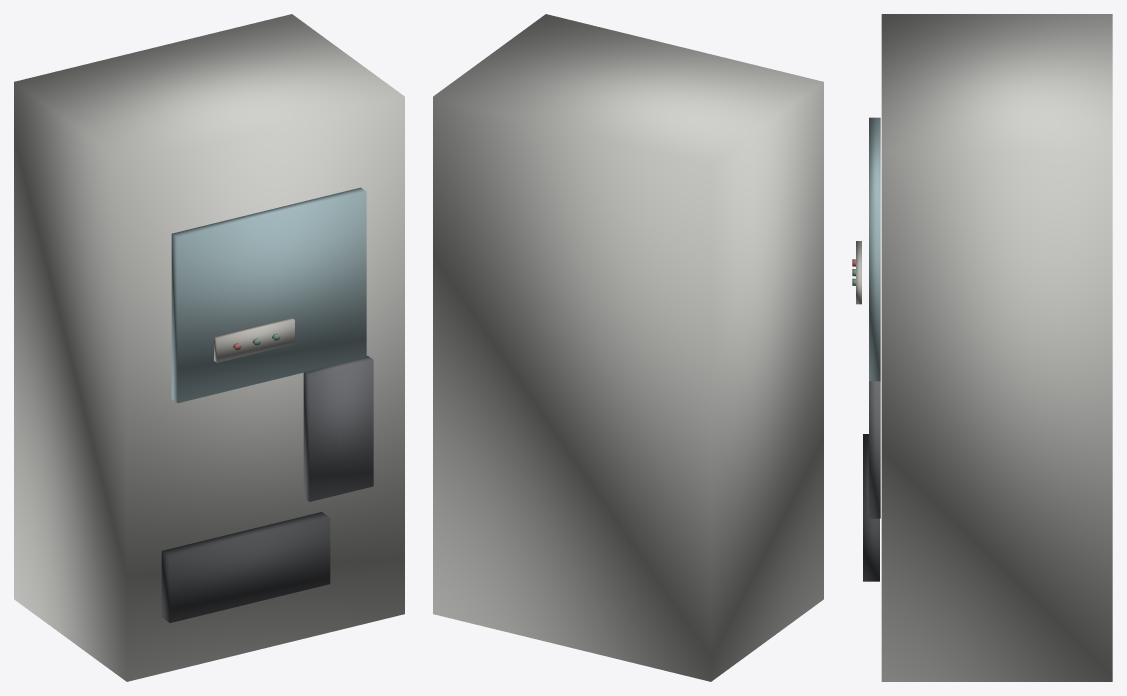
Rendered from snack_vending_machine__wide.glb.
The picture shows the model from 3 angles, left to right: view 1: azimuth 30°, elevation 25°; view 2: azimuth 150°, elevation 25°; view 3: azimuth 270°, elevation 25°; orthographic projection. The views are drawn at different scales.
Parts seen in each view (by area): view 1: world; view 2: world; view 3: world.
Boxes of the visible parts, bbox=[...] form: world: bbox=[14, 14, 404, 681]; world: bbox=[433, 14, 823, 681]; world: bbox=[852, 14, 1112, 681].
Size of the model in its own units: 0.9672 by 1.72 by 0.766.
